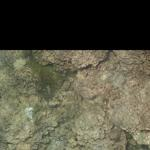dead: (2, 52, 147, 148)
